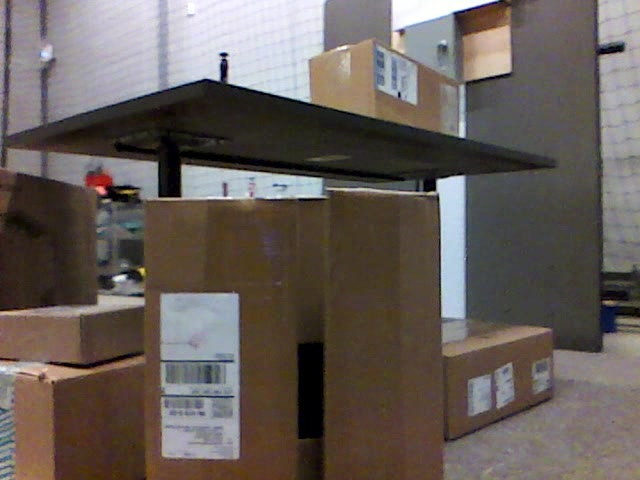box: (144, 189, 441, 480), (1, 359, 145, 480), (310, 41, 463, 135), (442, 321, 556, 442), (1, 170, 97, 305), (2, 305, 147, 363)
